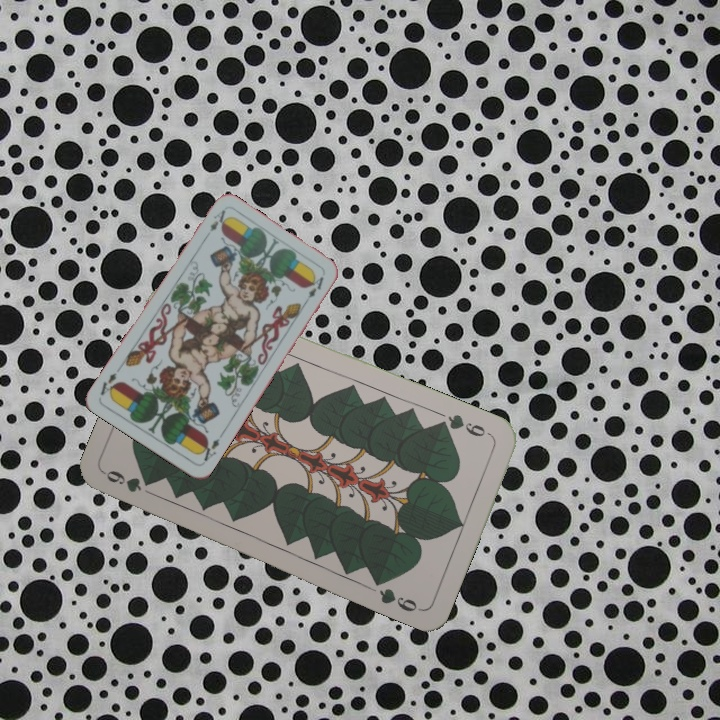EA: (195, 434, 223, 466), (205, 205, 229, 234)
G9: (435, 410, 495, 440), (102, 466, 144, 495)
